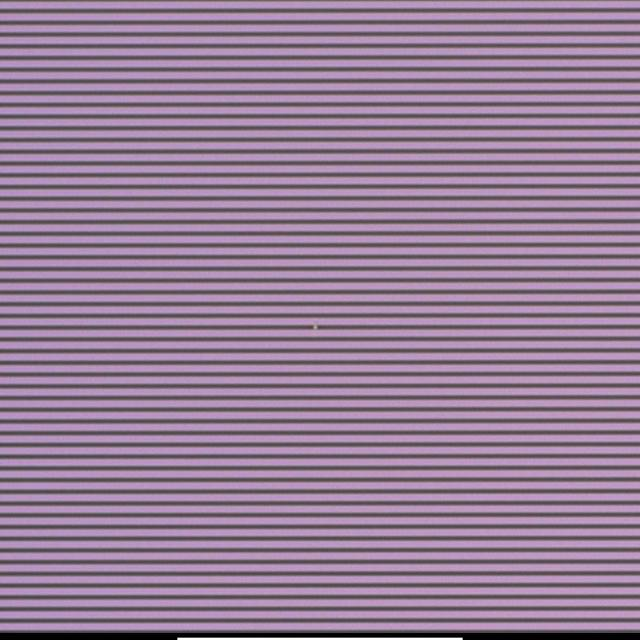03_intrusion: (311, 319, 318, 331)
